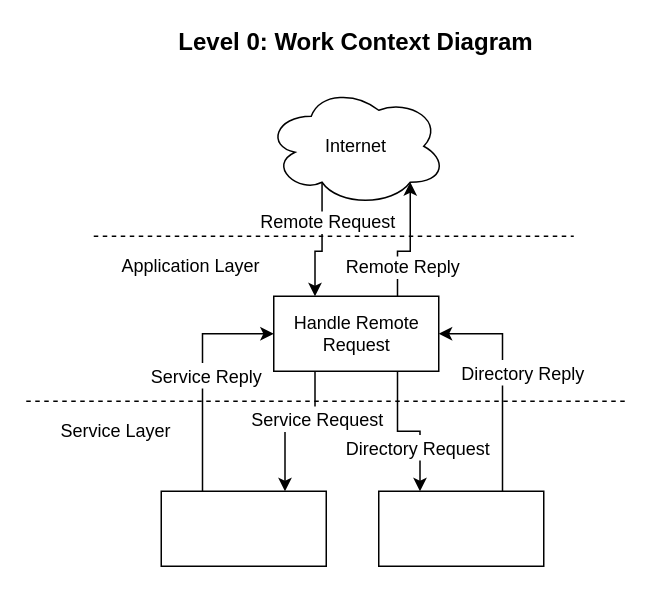
Image size: 654x593. Some labels were removed from this diagram. Each missing label, with the centre of its shape:
"Handle Directory Node Request" goes at point (460, 528).
"Handle Service Node Request" goes at point (243, 528).
